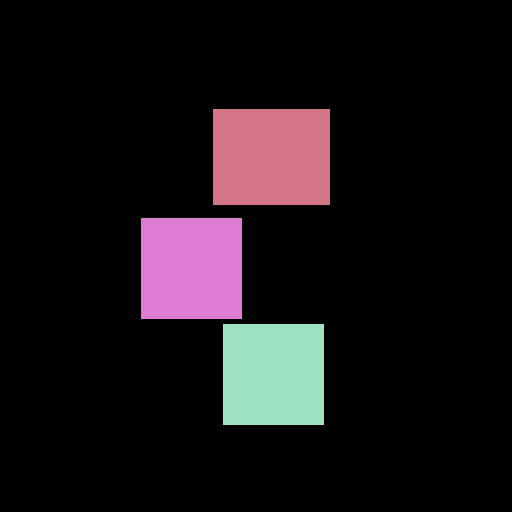rectangle: (213, 109, 329, 204)
square: (223, 324, 323, 424), (141, 218, 241, 318)
